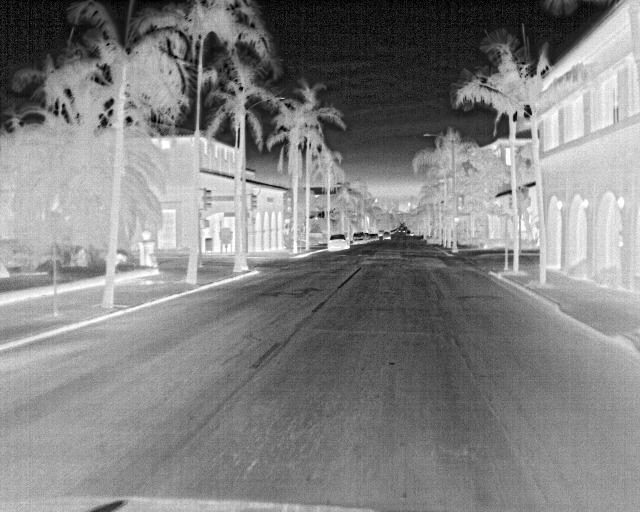car: (324, 235, 353, 251), (350, 232, 367, 246), (368, 233, 381, 245), (382, 229, 394, 241)
